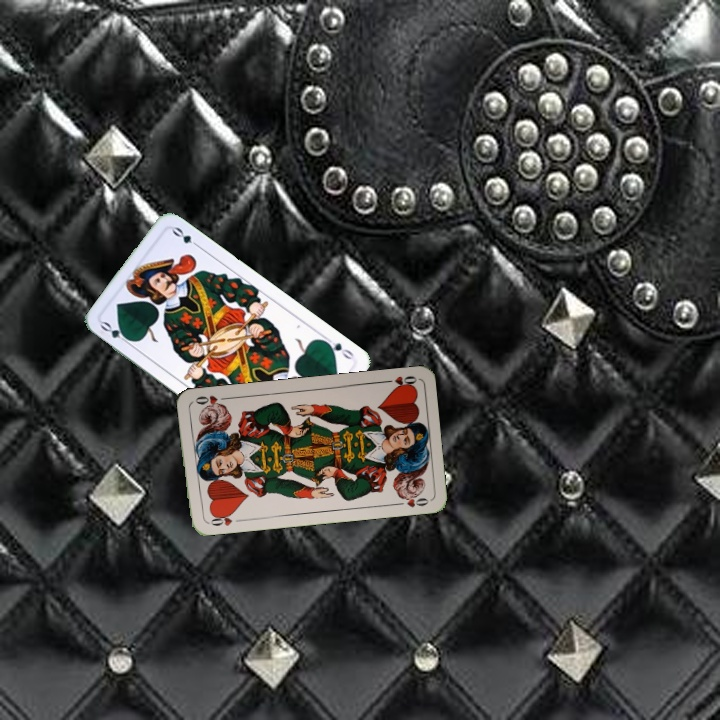GO: (96, 317, 135, 347), (319, 333, 356, 363)
HO: (203, 509, 244, 528), (378, 372, 419, 391)
